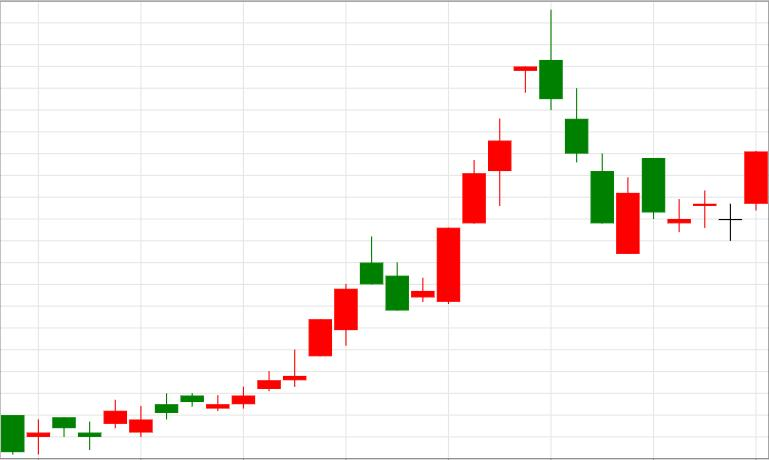shooting_star_fall: (411, 10, 562, 305)
three_black_crows_fall: (412, 9, 613, 304)
